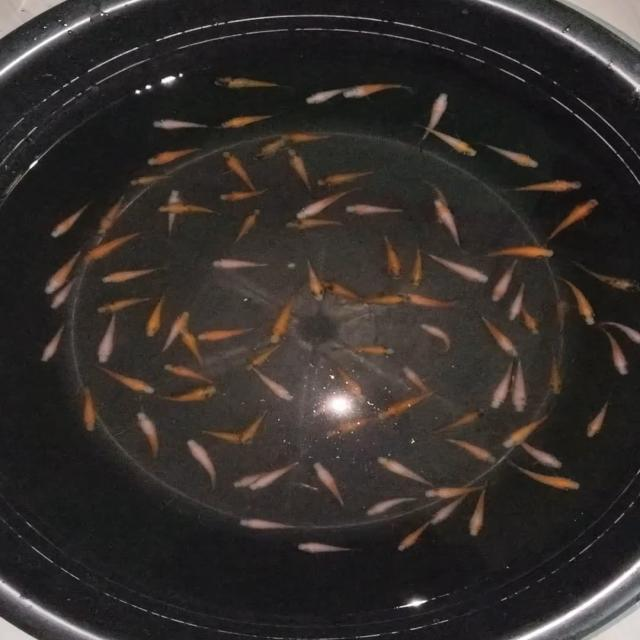nila: (544, 196, 602, 243), (573, 258, 640, 296), (416, 120, 481, 158), (322, 354, 371, 404), (500, 411, 556, 451), (83, 230, 145, 266), (247, 456, 305, 494), (514, 463, 585, 494), (42, 248, 86, 298), (311, 459, 354, 510), (377, 456, 440, 490), (426, 406, 488, 440), (426, 253, 489, 286), (292, 186, 352, 219), (268, 287, 301, 347), (48, 201, 96, 240), (482, 140, 544, 170), (98, 364, 156, 396), (416, 90, 450, 144), (478, 316, 520, 358), (488, 255, 524, 303), (398, 288, 472, 311), (380, 392, 430, 426), (186, 438, 218, 490), (431, 199, 464, 249), (564, 279, 598, 327), (393, 518, 437, 555), (134, 411, 162, 469), (94, 193, 130, 238), (601, 326, 633, 376), (422, 481, 494, 503), (340, 80, 418, 100), (99, 262, 163, 286), (520, 440, 568, 472), (448, 434, 497, 465), (222, 148, 258, 190), (428, 494, 472, 528), (240, 407, 276, 448), (157, 311, 189, 357), (252, 128, 294, 163), (252, 365, 293, 400), (322, 415, 384, 438), (208, 74, 296, 90), (218, 109, 288, 129), (365, 493, 420, 518), (146, 144, 203, 168), (474, 245, 558, 261), (491, 358, 515, 414), (316, 167, 377, 189), (193, 325, 260, 345), (509, 357, 532, 415), (284, 146, 314, 190), (499, 178, 586, 193), (96, 312, 120, 366), (94, 293, 151, 315), (468, 483, 490, 540), (236, 514, 302, 533), (303, 83, 357, 106), (232, 206, 263, 246), (51, 272, 82, 312), (278, 216, 355, 232), (352, 291, 416, 310), (38, 322, 66, 365), (214, 182, 274, 202), (144, 295, 169, 342), (177, 326, 206, 365), (320, 278, 363, 304), (382, 232, 404, 282), (420, 321, 453, 354), (248, 341, 284, 371), (294, 539, 360, 555), (162, 366, 220, 384), (343, 200, 408, 216), (587, 398, 611, 441), (156, 202, 224, 217), (406, 362, 434, 398), (334, 342, 400, 357), (603, 320, 640, 346), (166, 386, 219, 404), (147, 118, 215, 132), (304, 256, 325, 300), (164, 186, 184, 232), (506, 278, 526, 324), (208, 256, 273, 270), (82, 386, 100, 434), (411, 241, 428, 290), (200, 428, 246, 446), (431, 180, 448, 228), (278, 130, 336, 143), (128, 171, 178, 186), (520, 308, 546, 336), (227, 472, 269, 489), (548, 350, 562, 396), (548, 294, 564, 333)
